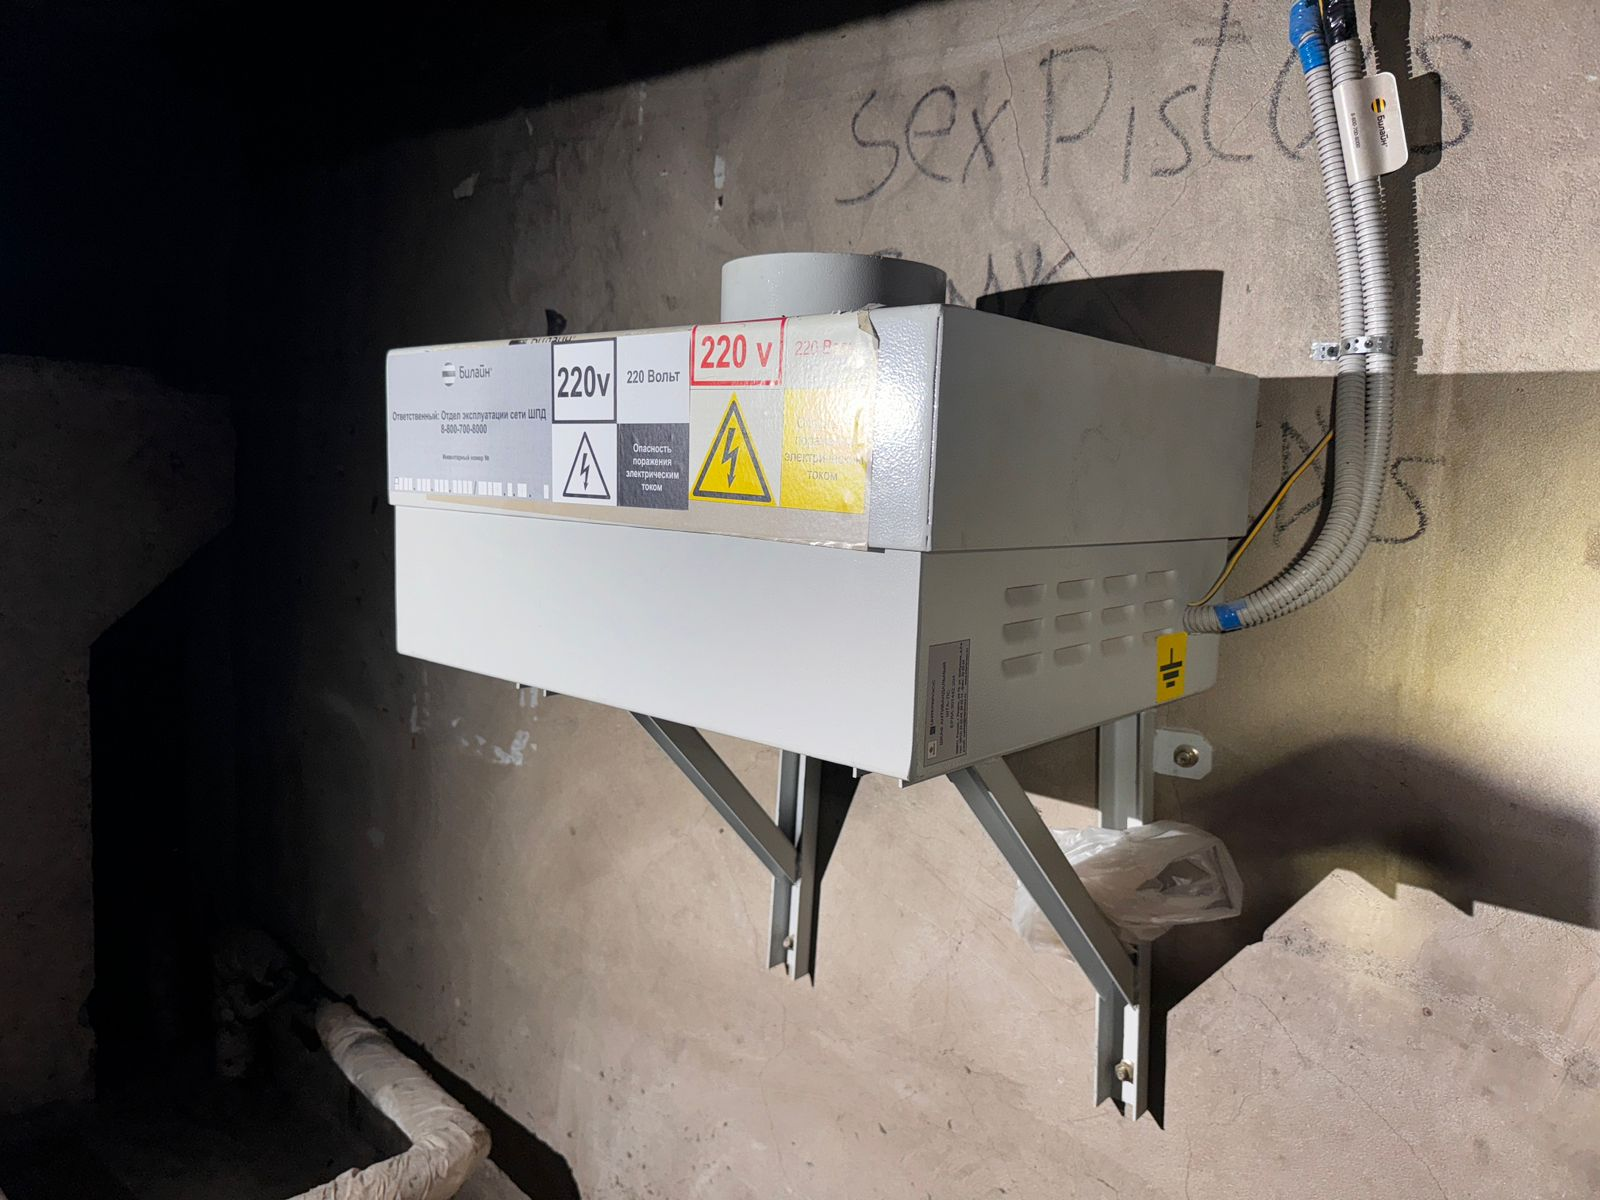shta-ps: (365, 247, 1284, 798)
